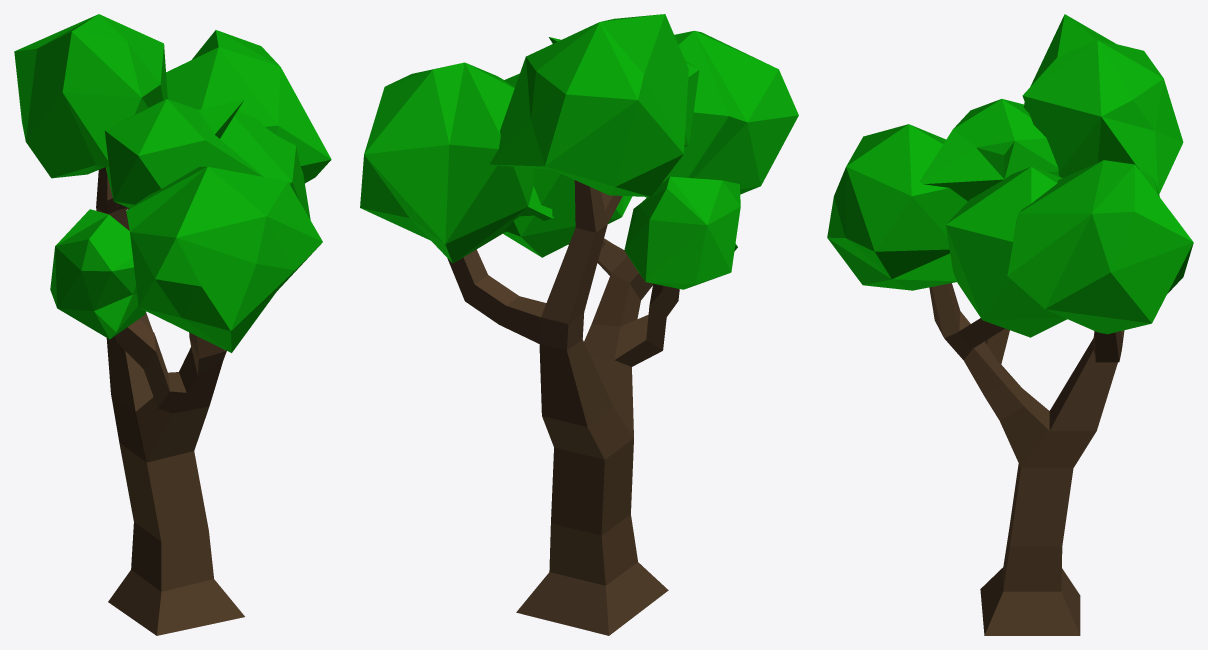
File: low-poly-tree-1.glb
The picture shows the model from 3 angles, left to right: view 1: azimuth 30°, elevation 25°; view 2: azimuth 150°, elevation 25°; view 3: azimuth 270°, elevation 25°; orthographic projection. The views are drawn at different scales.
Visible parts, largest first — view 1: low-poly-tree-1; view 2: low-poly-tree-1; view 3: low-poly-tree-1.
Boxes of the visible parts, box(x1,y1,x2,y2) form: low-poly-tree-1: box(14, 14, 331, 635); low-poly-tree-1: box(360, 14, 798, 635); low-poly-tree-1: box(827, 14, 1193, 635).
Size of the model in its own units: 2.55 by 4.98 by 2.95.
